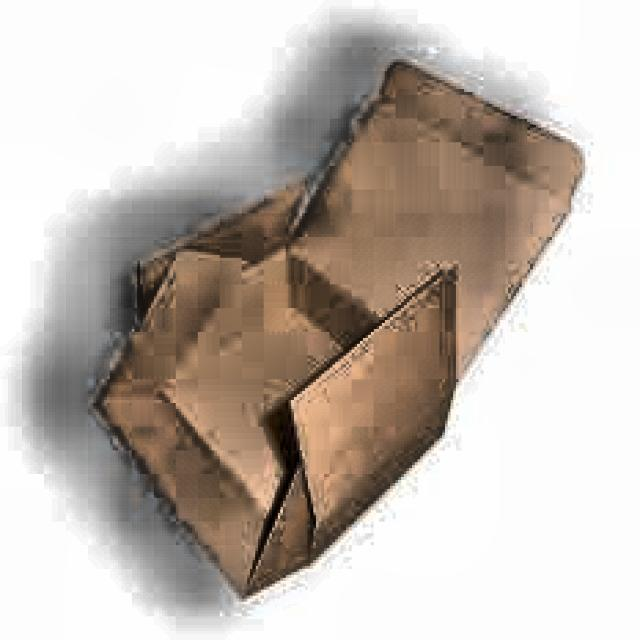Cardbox: (78, 39, 592, 610)
